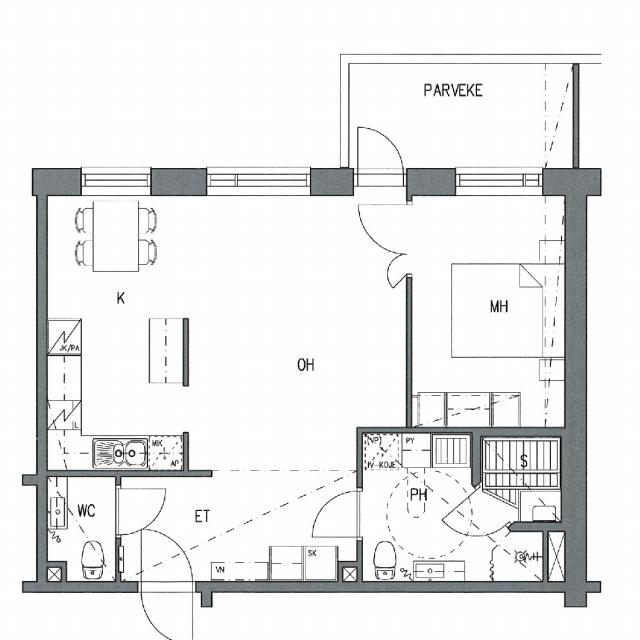door: (442, 486, 510, 554), (142, 528, 192, 592), (142, 581, 192, 640), (357, 204, 412, 254), (357, 127, 403, 186), (311, 490, 360, 538), (115, 488, 164, 535), (386, 255, 412, 276)
